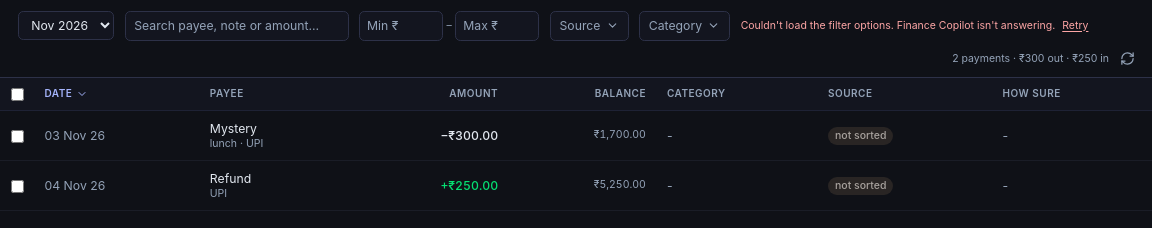
Test: Transactions when the API fails › says the filter options could not load, beside the filters, and Retry loads them
Expected: the message shows "Couldn't load the filter options.", [741, 18, 1088, 32]
Expected: the text "Mystery" is shown, [210, 120, 257, 136]
Step 1. Click the button "Retry" → (1075, 26), box [1062, 18, 1088, 32]
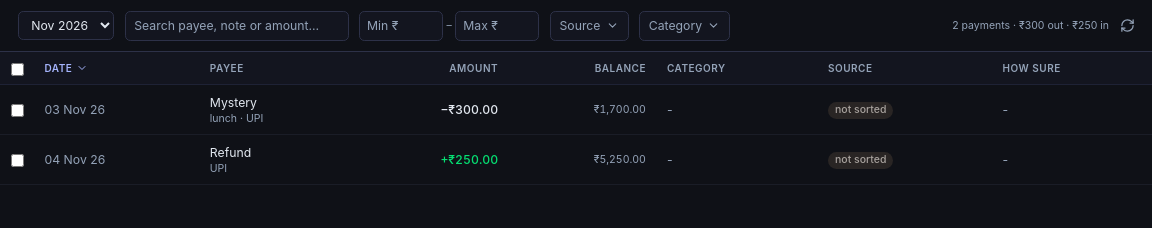
Now the message "Couldn't load the filter options. Finance Copilot isn't answering. Retry" is gone
